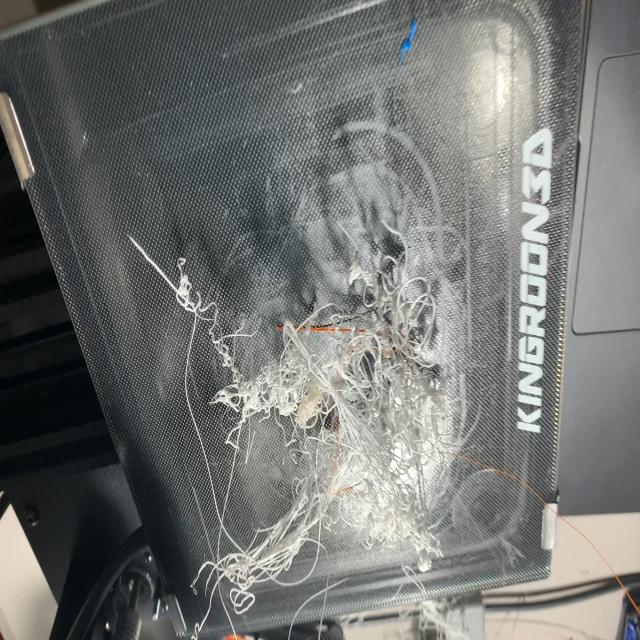spaghetti: (2, 2, 588, 634)
